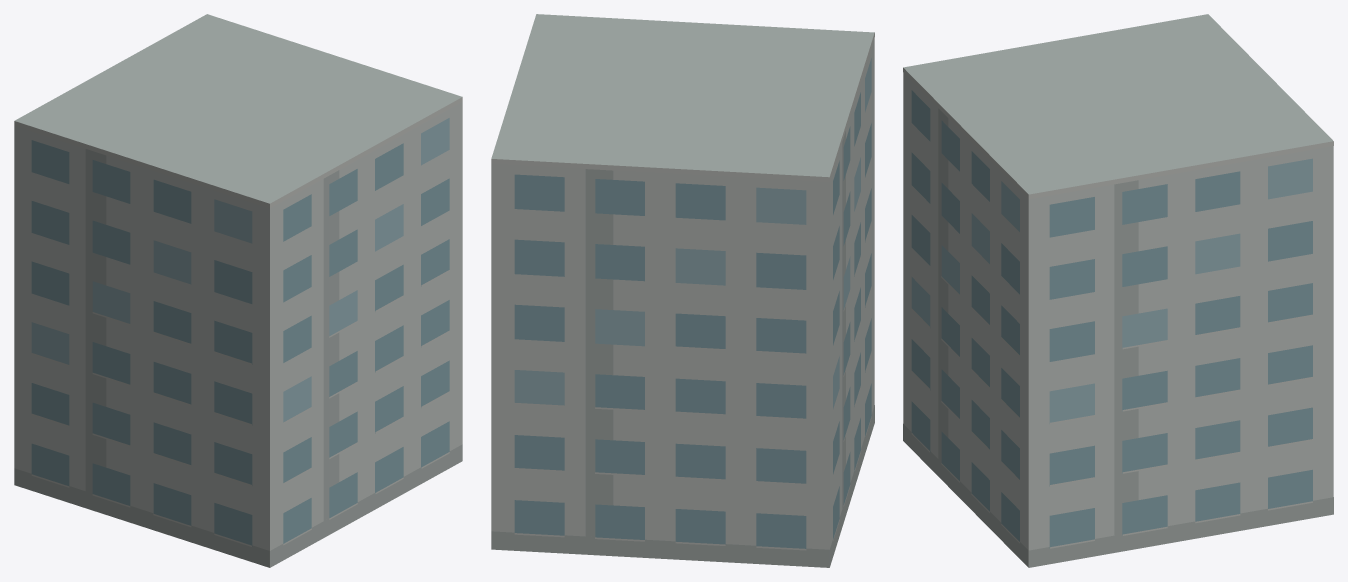
File: survey-upis-32854623.glb
The picture shows the model from 3 angles, left to right: view 1: azimuth 30°, elevation 25°; view 2: azimuth 150°, elevation 25°; view 3: azimuth 270°, elevation 25°; orthographic projection. The views are drawn at different scales.
Visible parts, largest first — view 1: survey-upis-32854623.tmp; view 2: survey-upis-32854623.tmp; view 3: survey-upis-32854623.tmp.
Part boxes in pixels (left/top/right/bottom): survey-upis-32854623.tmp: left=14, top=14, right=462, bottom=567; survey-upis-32854623.tmp: left=491, top=14, right=874, bottom=567; survey-upis-32854623.tmp: left=903, top=14, right=1333, bottom=567.
Bounding box in the file's own units: 19.36 × 18.66 × 19.52.
